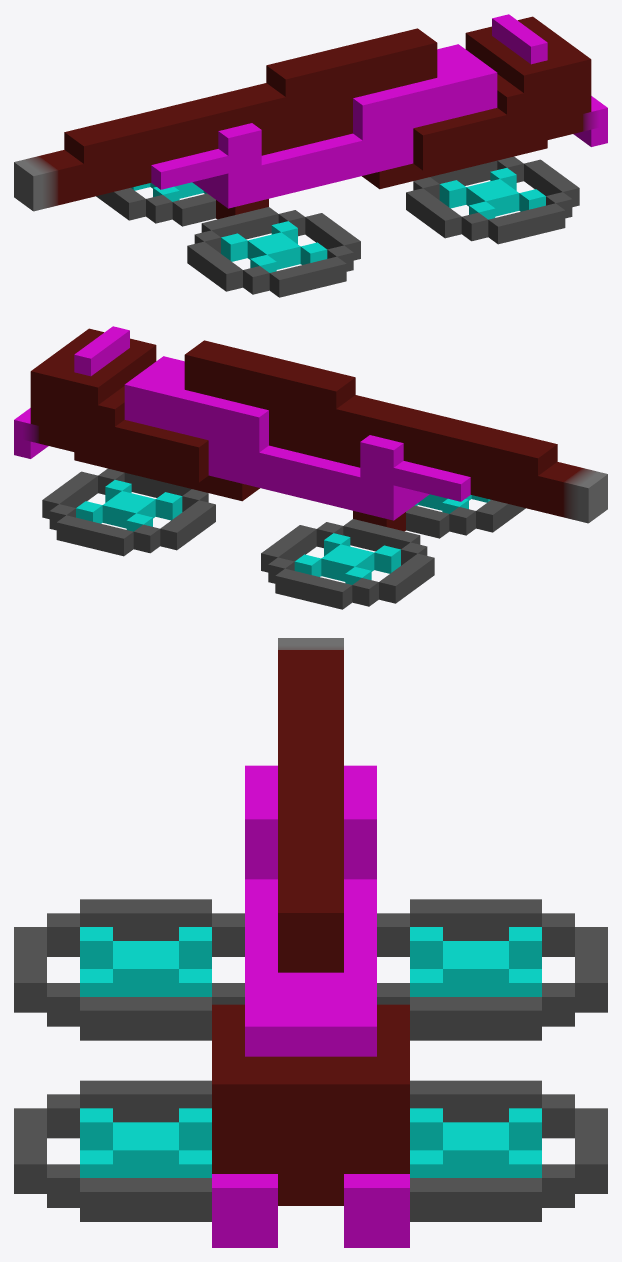
The model's file is Player_11.fbx.
The picture shows the model from 3 angles, top to bottom: view 1: azimuth 30°, elevation 25°; view 2: azimuth 150°, elevation 25°; view 3: azimuth 270°, elevation 25°; orthographic projection. The views are drawn at different scales.
Visible parts, largest first — view 1: Player_11; view 2: Player_11; view 3: Player_11.
Part boxes in pixels (x1,y1,x2,y2): Player_11: (14,14,607,297); Player_11: (14,326,607,609); Player_11: (14,638,607,1247).
Size of the model in its own units: 33 by 8 by 18.
1 material, 1 textured.
